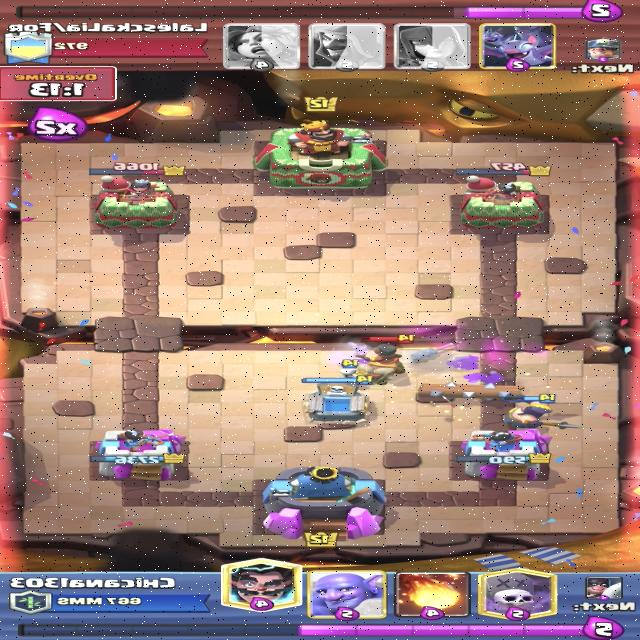Enemy-Log: (416, 382, 524, 402)
Enemy-RamRider: (346, 334, 416, 384)
Player-Executioner: (500, 393, 584, 430)
Player-Skeleton: (337, 358, 366, 379)
Player-Tombstone: (300, 374, 376, 424)
